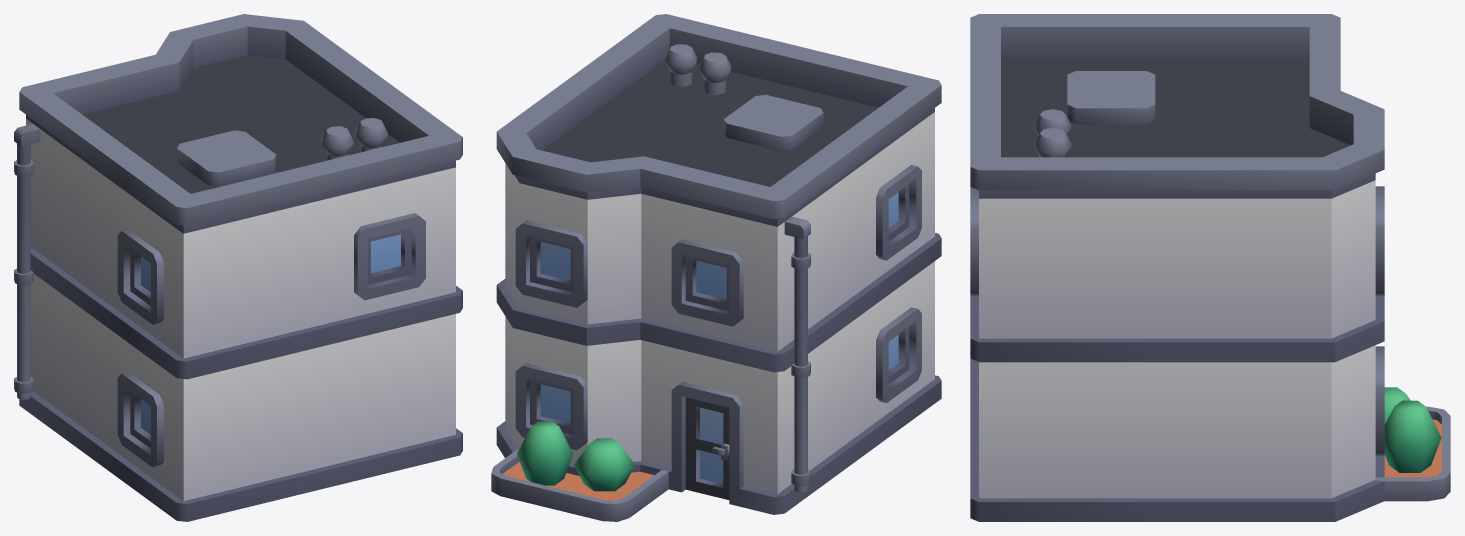
Rendered from k_c_building-c.glb.
3 renders of one model, left to right at view 1: azimuth 30°, elevation 25°; view 2: azimuth 150°, elevation 25°; view 3: azimuth 270°, elevation 25°, orthographic. The views are drawn at different scales.
Parts seen in each view (by area): view 1: building-c; view 2: building-c; view 3: building-c.
Part boxes in pixels (x1,y1,x2,y2): building-c: (14,14,462,521); building-c: (491,14,941,521); building-c: (970,14,1450,521).
Bounding box in the file's own units: 0.8836 × 0.893 × 1.09.
Materials: 1 (1 with a texture image).
